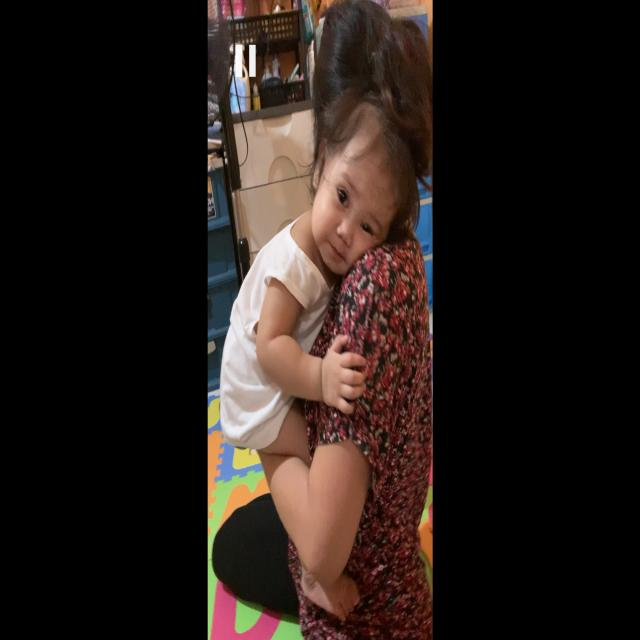adult: (213, 0, 432, 640)
child: (218, 94, 416, 623)
